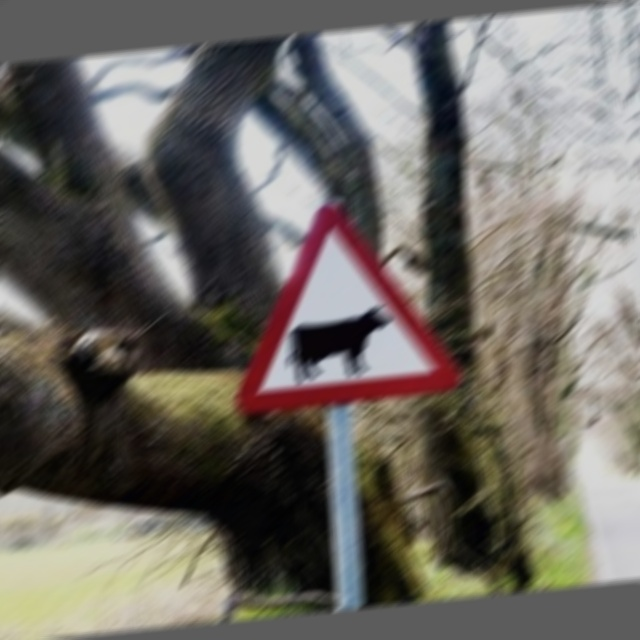Cattle: (221, 189, 469, 415)
